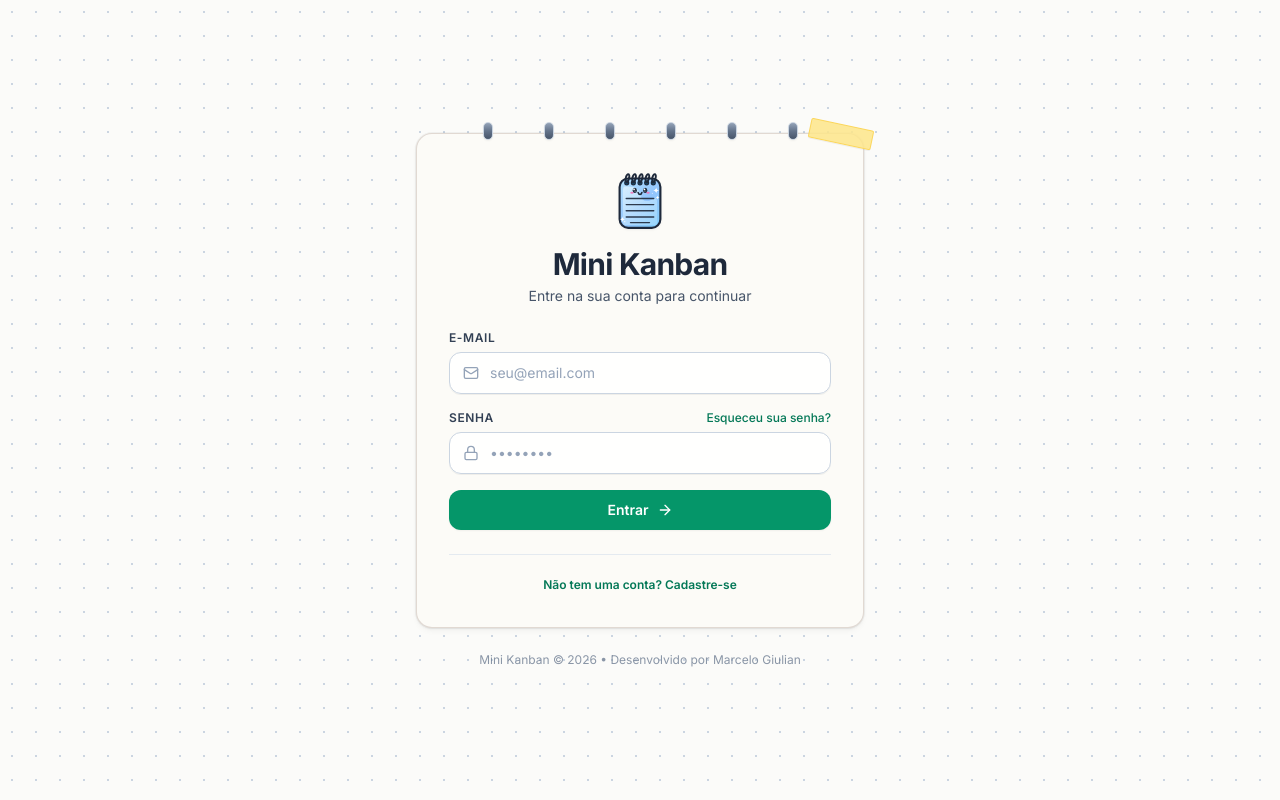
Test: PaginaLogin › exibe a mensagem retornada quando o cadastro falha
Click the button "Não tem uma conta? Cadastre-se" at (640, 584), box [543,576,737,592]
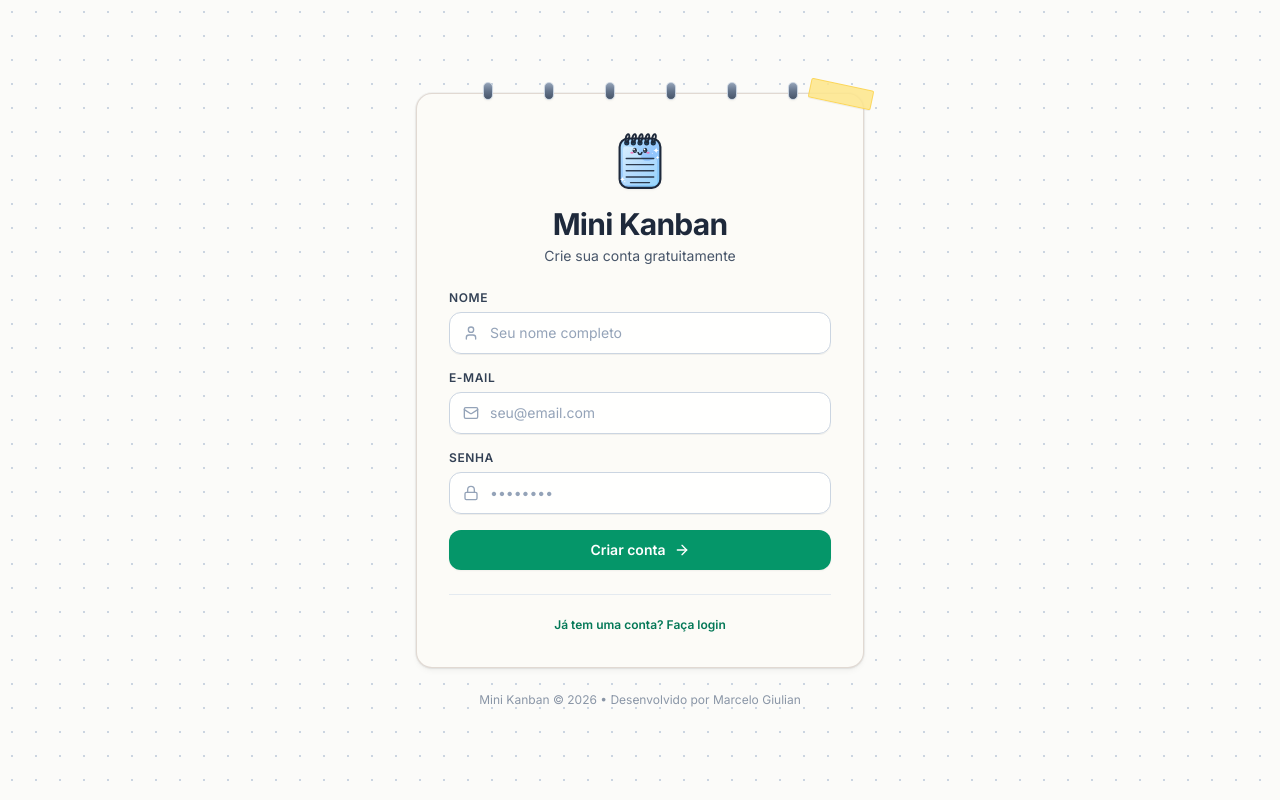
Type "Teste Usuario" into the field labelled "Nome" at (640, 332), box [449,312,831,354]
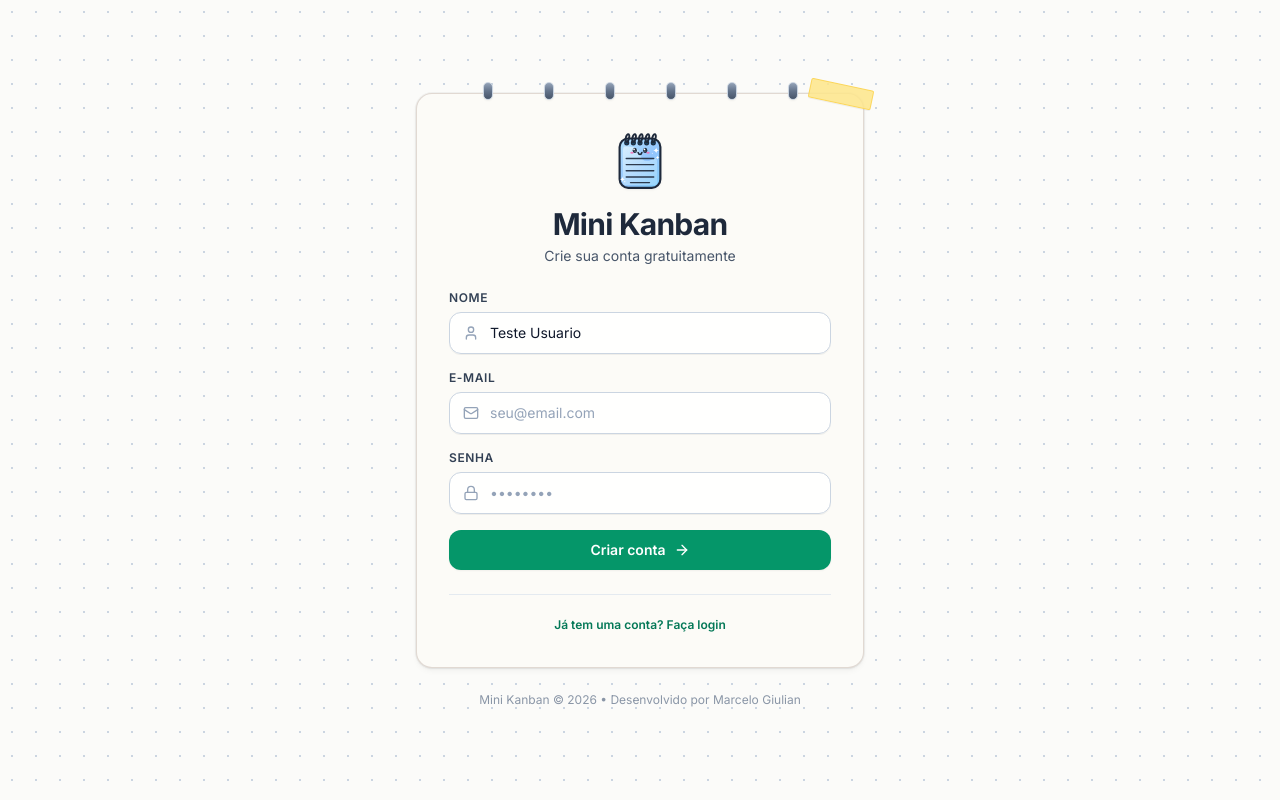
Type "teste@example.com" into the field labelled "E-mail" at (640, 412), box [449,392,831,434]
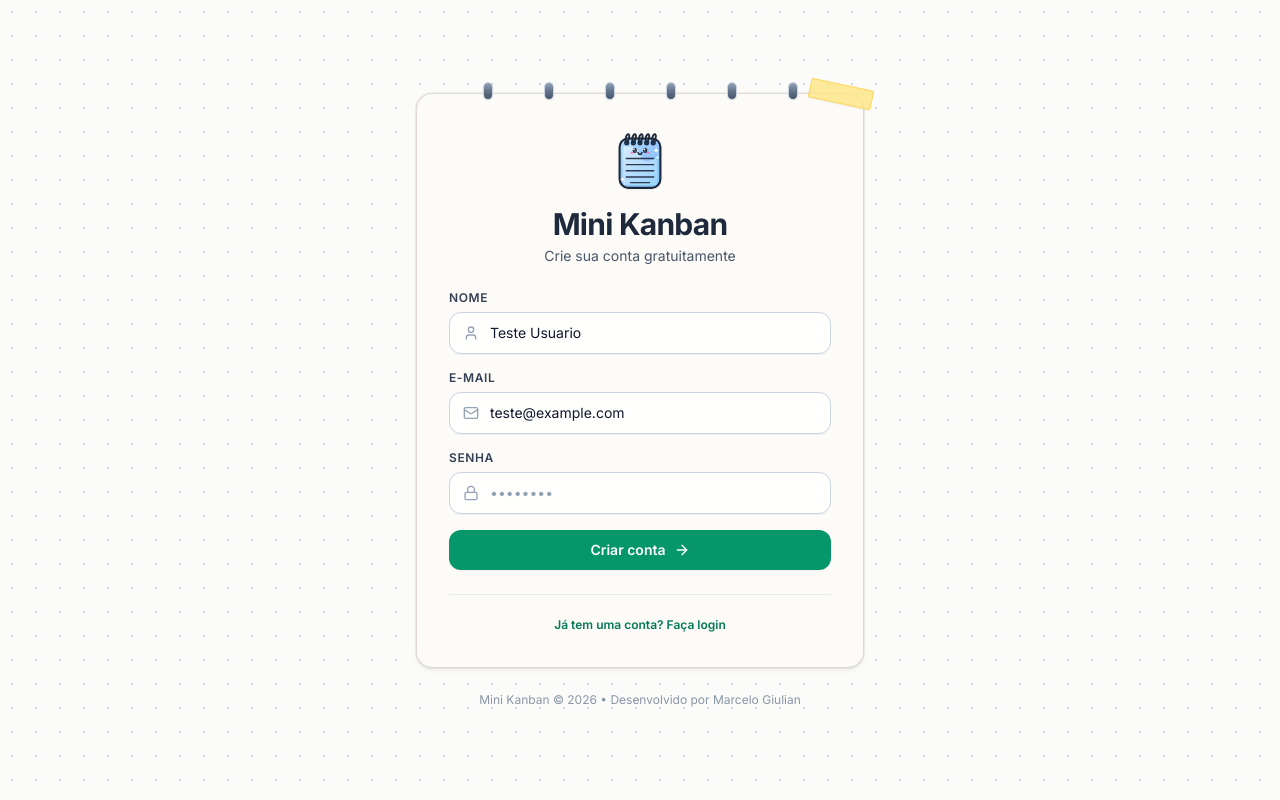
Type "password123" into the password field labelled "Senha" at (640, 492), box [449,472,831,514]
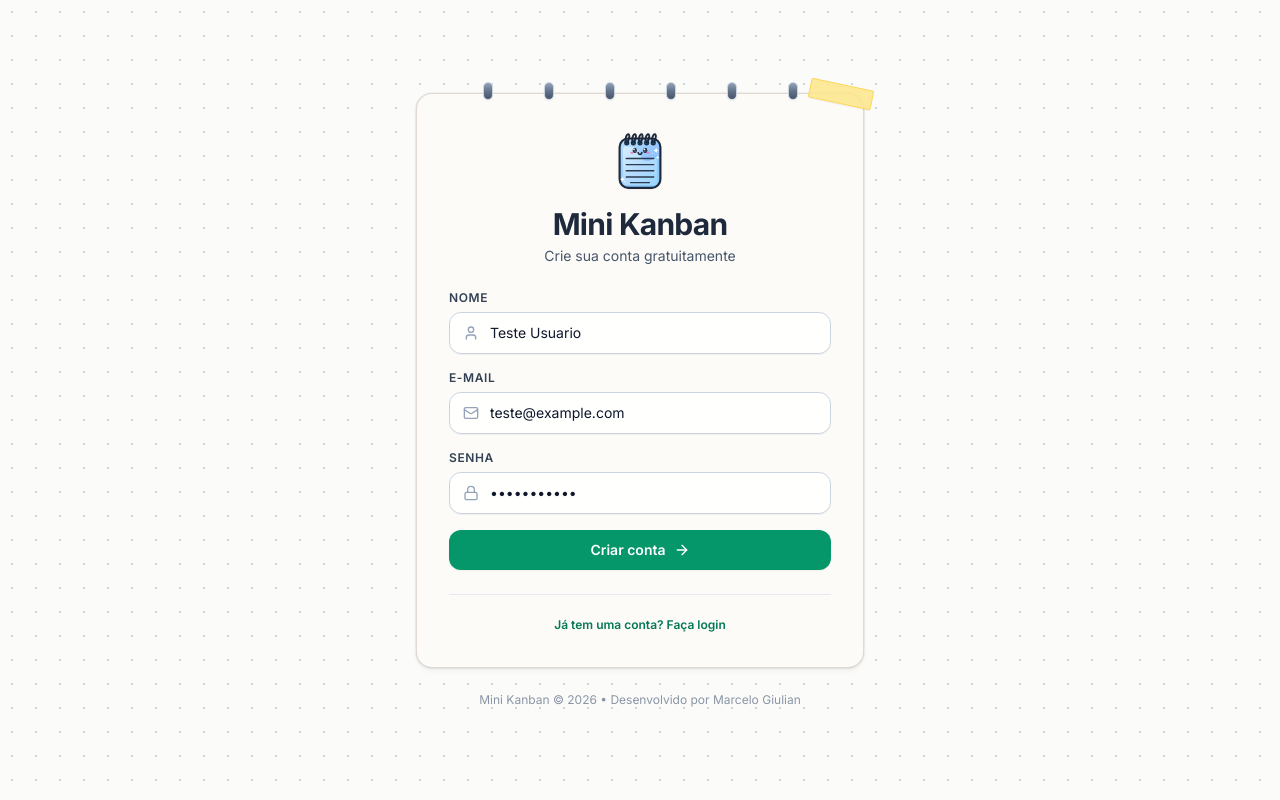
Click the button "Criar conta" at (640, 550), box [449,530,831,570]
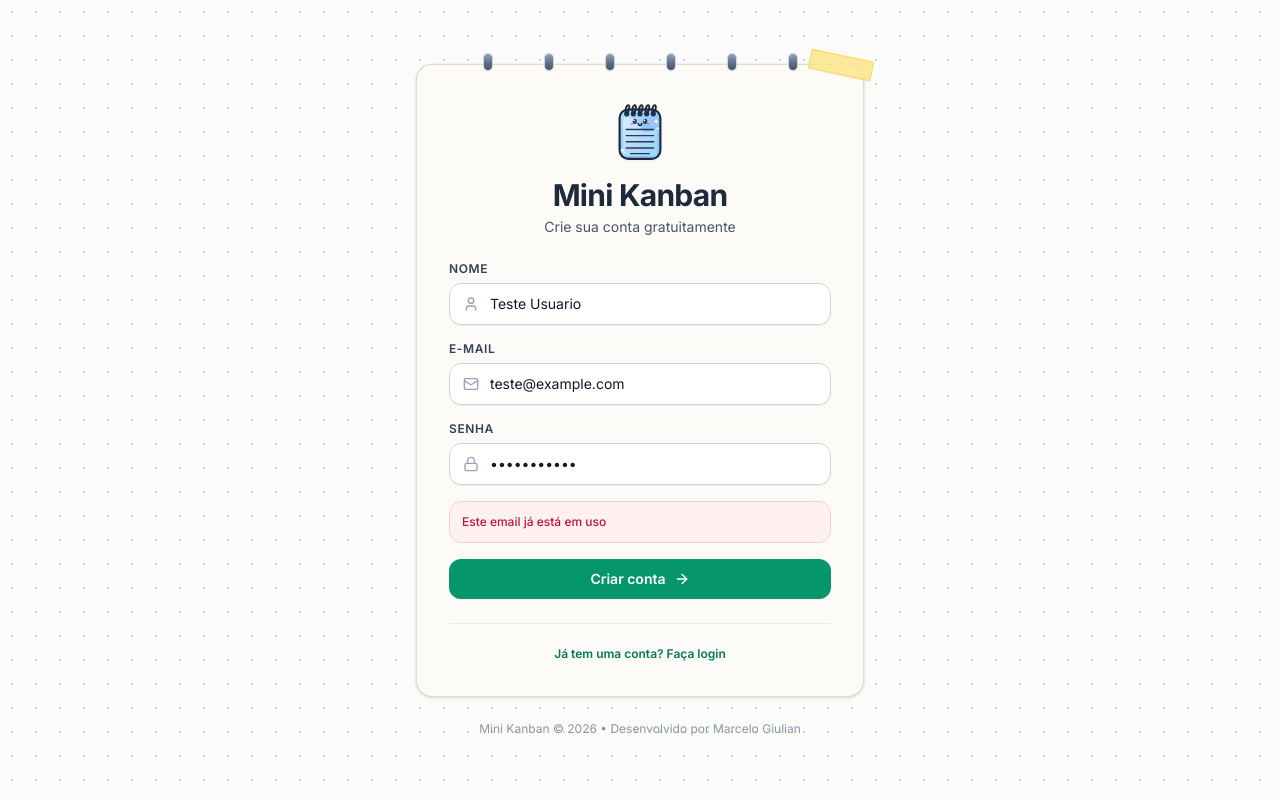
Result: the text "Este email já está em uso" is shown at [462,514,606,528]
